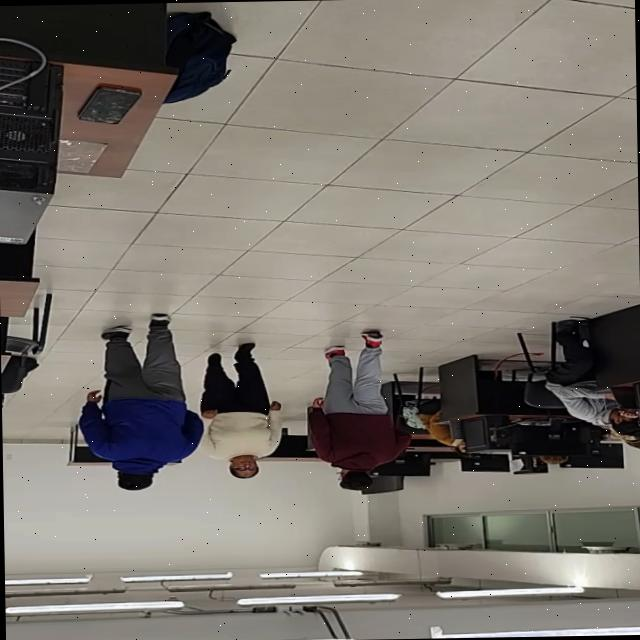Persona: (74, 312, 206, 490), (306, 329, 414, 492), (200, 342, 283, 479)
